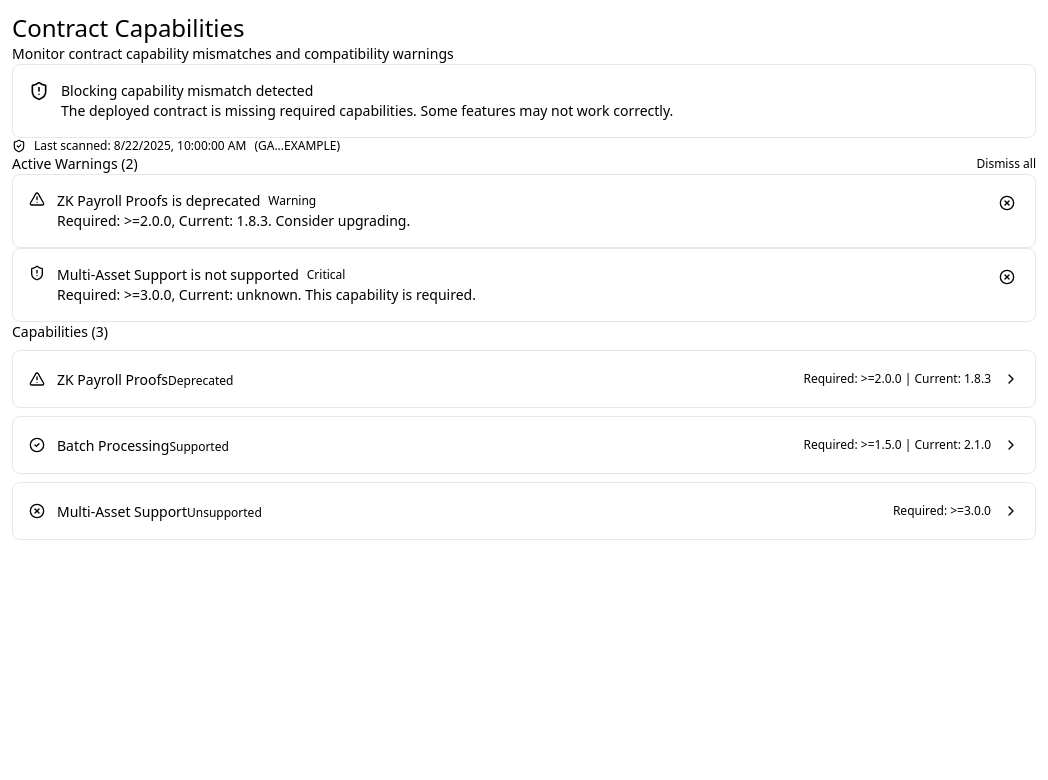
CapabilityMismatchPanel › expands capability details on click
Click the text "ZK Payroll Proofs": (113,380) [57,370,168,389]
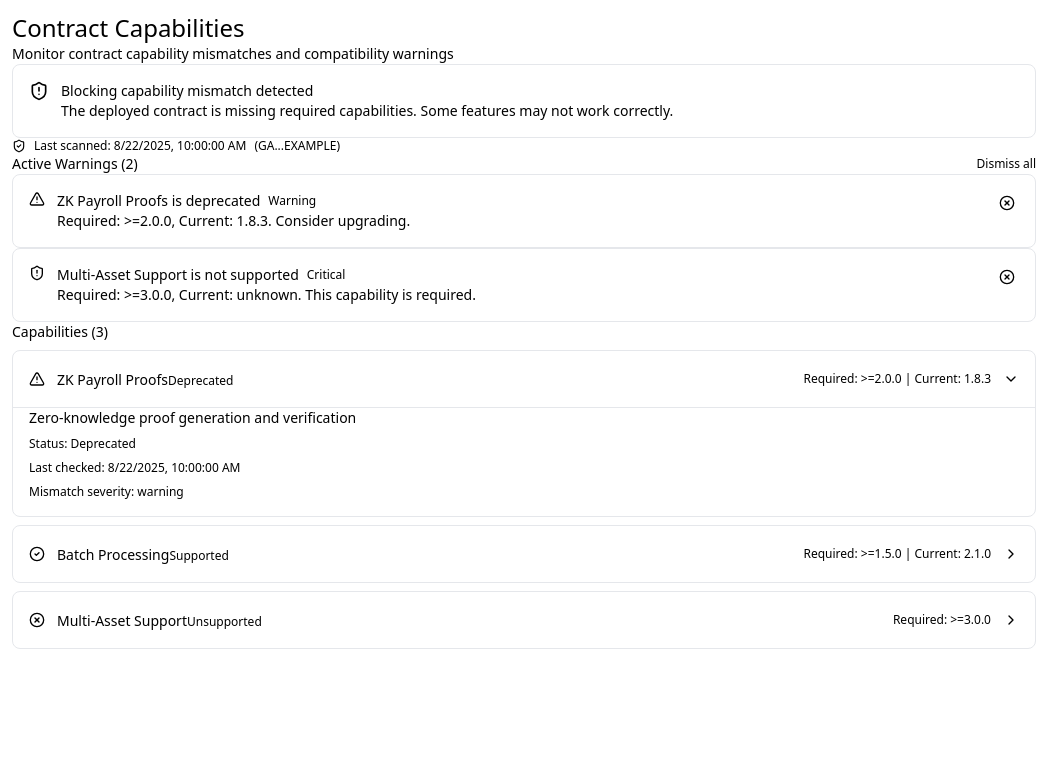
expect the text "Zero-knowledge proof generation and verification" is shown: met, box [29,408,356,427]
